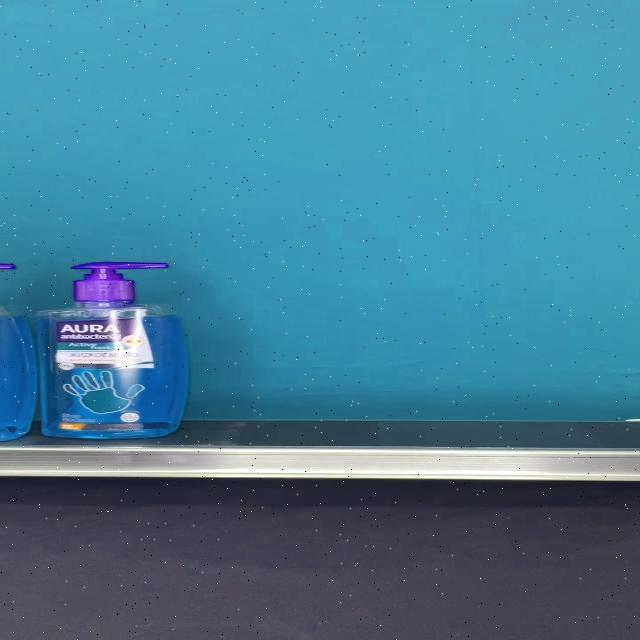Bottle: (34, 260, 190, 438)
Cap: (72, 260, 170, 300)
